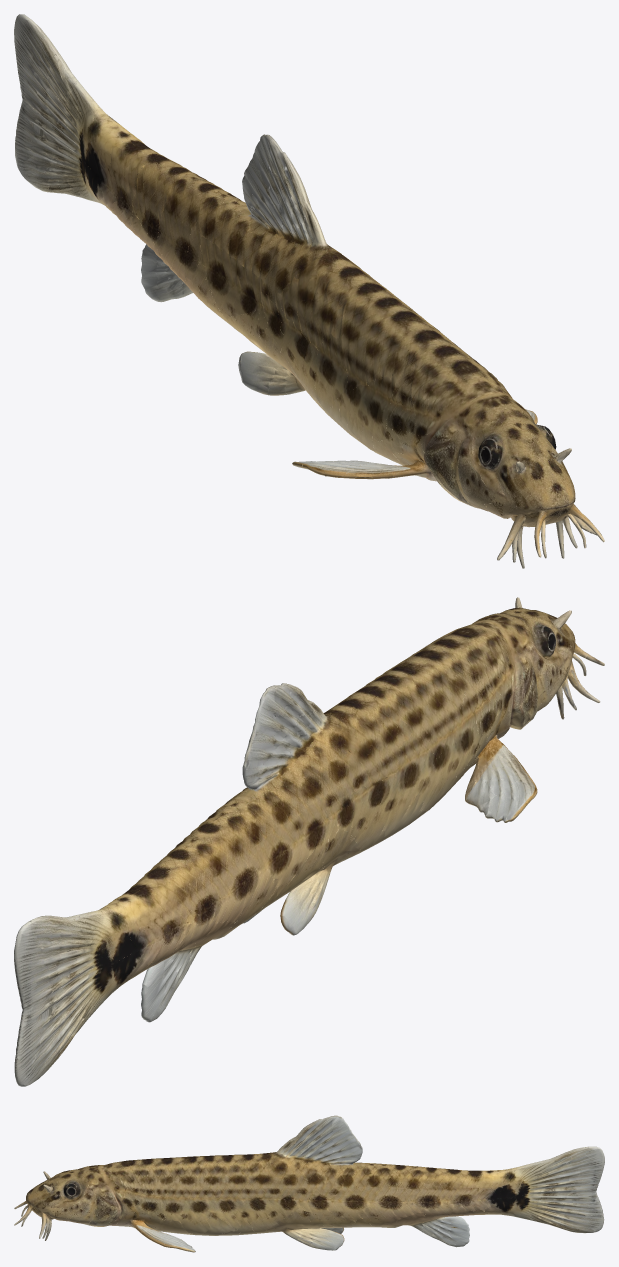
File: koza.glb
3 views of the same model, one above another, from view 1: azimuth 30°, elevation 25°; view 2: azimuth 150°, elevation 25°; view 3: azimuth 270°, elevation 25° (orthographic). The views are drawn at different scales.
Visible parts, largest first — view 1: Mesh_0; view 2: Mesh_0; view 3: Mesh_0.
Part boxes in pixels (<box>): Mesh_0: <box>14,14,604,568</box>; Mesh_0: <box>14,597,604,1086</box>; Mesh_0: <box>14,1115,604,1252</box>.
Size of the model in its own units: 0.445 by 0.4673 by 1.9.
1 material, 1 textured.
